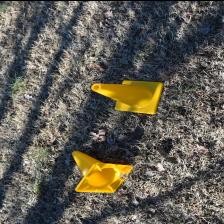cone: (72, 149, 132, 191), (91, 80, 163, 114)
